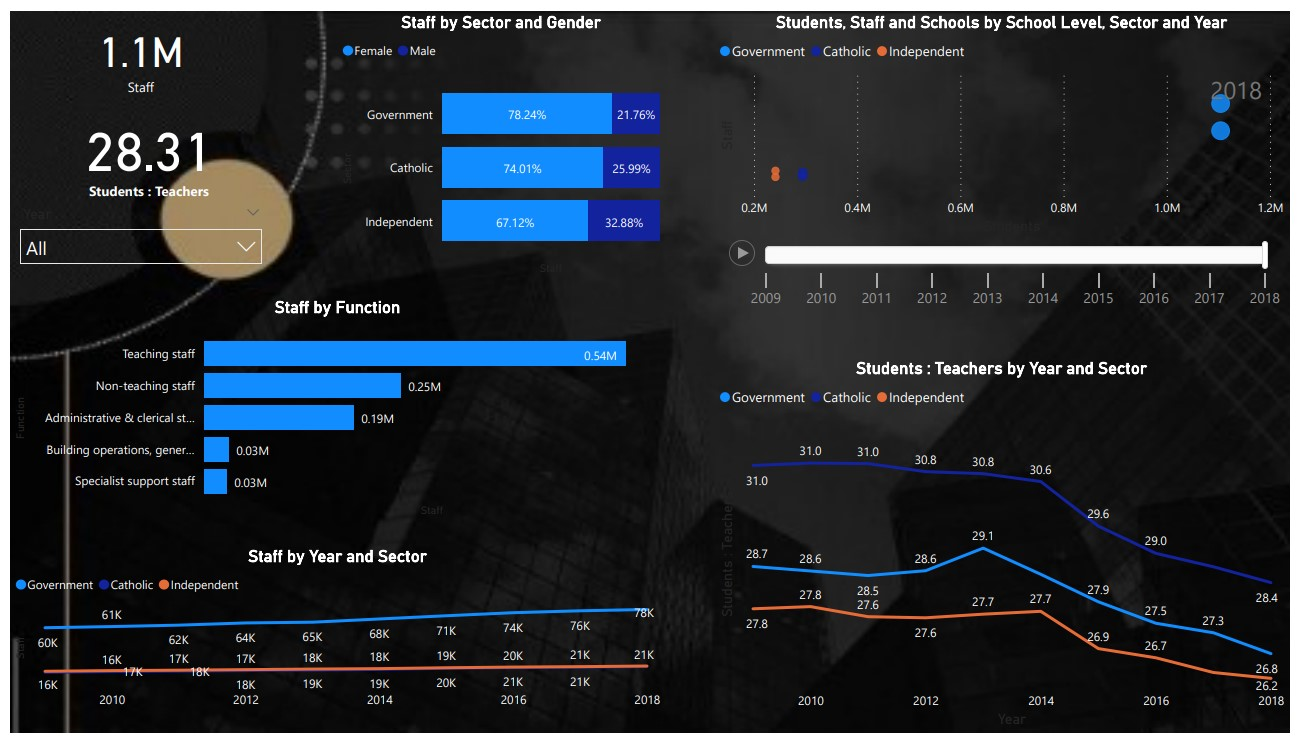

The dashboard page shown, as its layout file describes it:
{"tool":"powerbi","page":{"name":"Staff","canvas":[1280,720],"ordinal":1},"visuals":[{"type":"card","fields":{"Values":["Sum(Staff.Staff)"]},"box":[0,0,262.3,89],"z":0},{"type":"card","fields":{"Values":["Staff.Students : Teachers"]},"box":[0,89,278.1,104.9],"z":1000},{"type":"hundredPercentStackedBarChart","fields":{"Y":["Sum(Staff.Staff)"],"Category":["DimSchoolSector.Sector"],"Series":["Staff.Gender"]},"box":[327.4,0,327.4,267],"z":2000},{"type":"scatterChart","fields":{"X":["Sum(Students.Students)"],"Y":["Sum(Staff.Staff)"],"Size":["Sum(Schools.Schools)"],"Series":["DimSchoolSector.Sector"],"Play":["DimDates.Year"],"Category":["Staff.School Level"]},"box":[704.1,0,575.4,306.8],"z":3000},{"type":"clusteredBarChart","fields":{"Y":["Sum(Staff.Staff)"],"Category":["Staff.Function"]},"box":[0,284.5,654.8,224.1],"z":4000},{"type":"lineChart","fields":{"Y":["Sum(Staff.Staff)"],"Category":["DimDates.Year"],"Series":["DimSchoolSector.Sector"]},"box":[0,534,654.8,171.7],"z":5000},{"type":"lineChart","fields":{"Y":["Staff.Students : Teachers"],"Category":["DimDates.Year"],"Series":["DimSchoolSector.Sector"]},"box":[704.1,346.5,575.4,373.5],"z":6000},{"type":"slicer","fields":{"Values":["DimDates.Year"]},"box":[0,189.1,262.3,77.9],"z":7000}]}

Visuals, with their boxes in screenshot pixels (x1, y1, x2, y2), scaled from the page's 1280x720 canvas onto the 1301x744 screenshot:
card - Sum(Staff.Staff): box(0, 0, 267, 92)
card - Staff.Students : Teachers: box(0, 92, 283, 200)
hundredPercentStackedBarChart - Sum(Staff.Staff) x DimSchoolSector.Sector: box(333, 0, 666, 276)
scatterChart - Sum(Students.Students) x Sum(Staff.Staff): box(716, 0, 1300, 317)
clusteredBarChart - Sum(Staff.Staff) x Staff.Function: box(0, 294, 666, 526)
lineChart - Sum(Staff.Staff) x DimDates.Year: box(0, 552, 666, 729)
lineChart - Staff.Students : Teachers x DimDates.Year: box(716, 358, 1300, 743)
slicer - DimDates.Year: box(0, 195, 267, 276)
